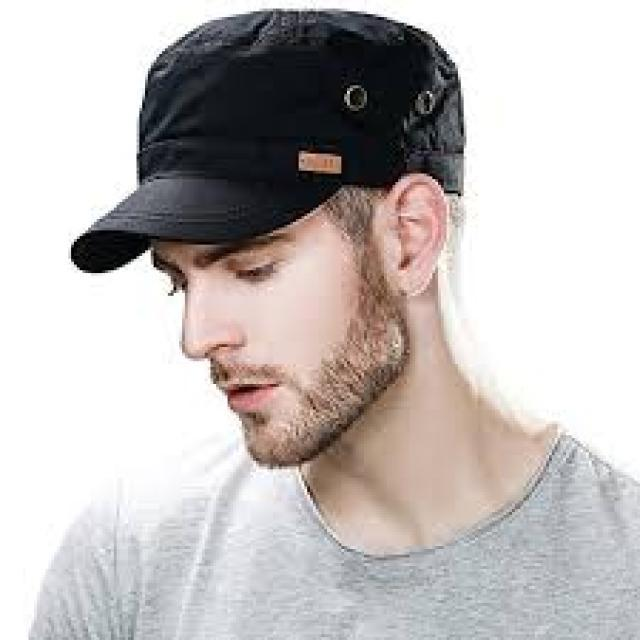cap: (42, 0, 487, 275)
